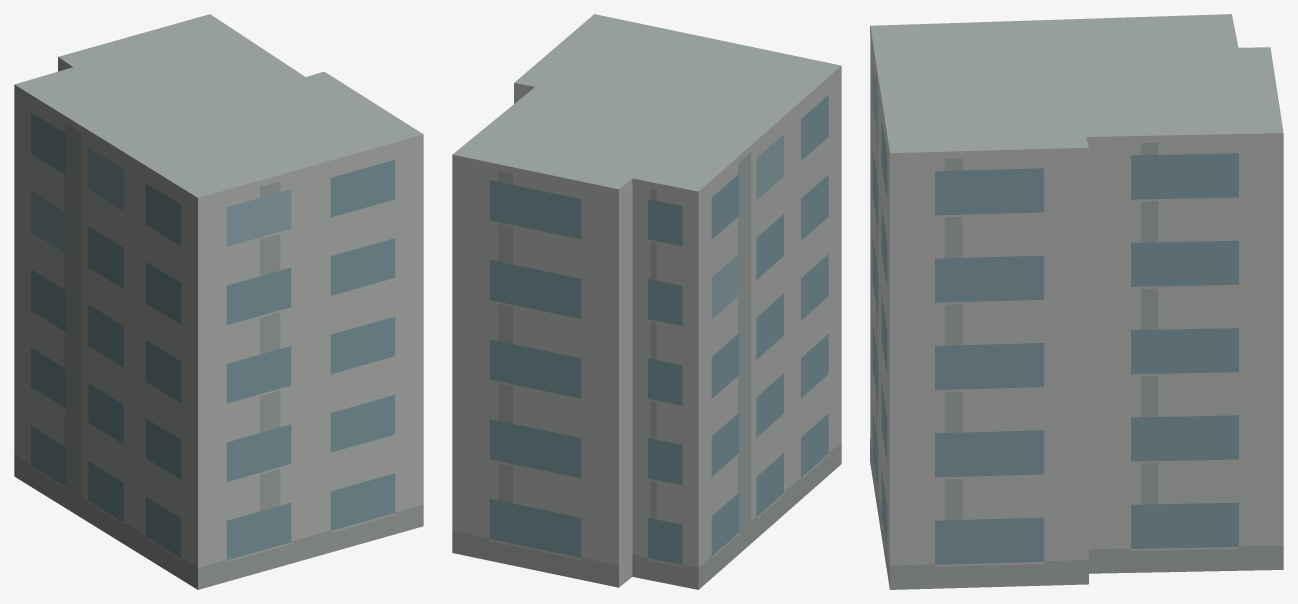
The model's file is survey-upis-32561744.glb.
The picture shows the model from 3 angles, left to right: view 1: azimuth 30°, elevation 25°; view 2: azimuth 150°, elevation 25°; view 3: azimuth 270°, elevation 25°; orthographic projection. The views are drawn at different scales.
Parts seen in each view (by area): view 1: survey-upis-32561744.tmp; view 2: survey-upis-32561744.tmp; view 3: survey-upis-32561744.tmp.
Boxes of the visible parts, box(x1,y1,x2,y2) form: survey-upis-32561744.tmp: box(14, 14, 423, 589); survey-upis-32561744.tmp: box(452, 14, 841, 589); survey-upis-32561744.tmp: box(870, 14, 1283, 589).
Size of the model in its own units: 9.95 by 14.55 by 12.49.
